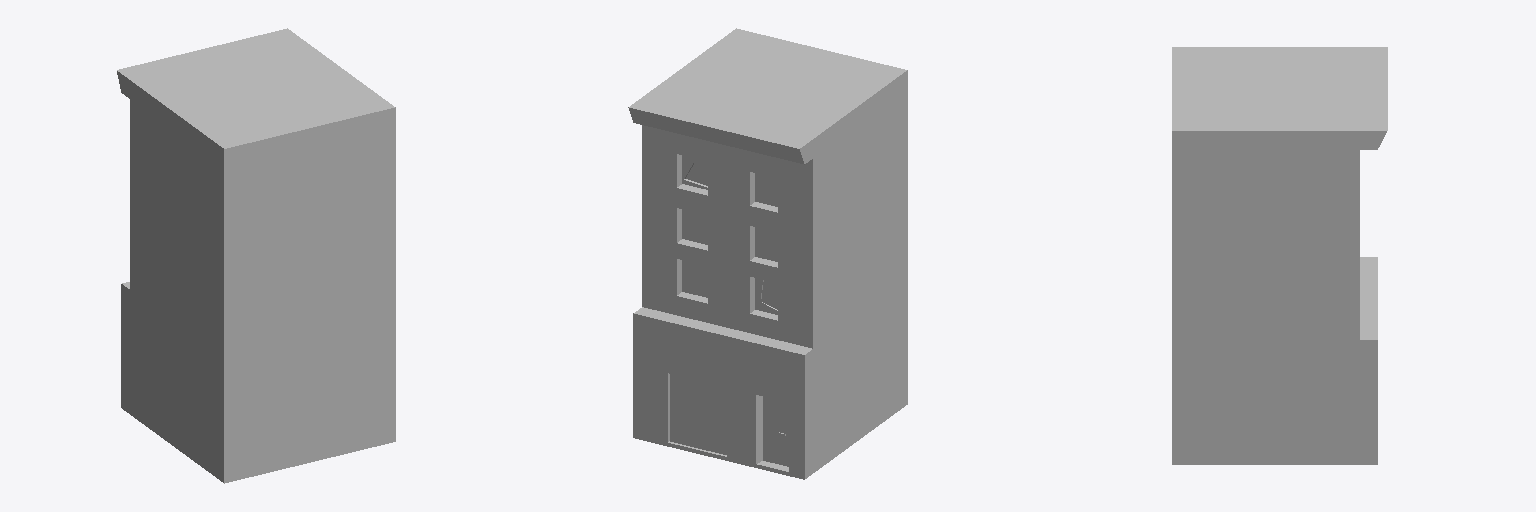
The model's file is Building Medium.obj.
The picture shows the model from 3 angles: view 1: azimuth 30°, elevation 25°; view 2: azimuth 150°, elevation 25°; view 3: azimuth 270°, elevation 25°; orthographic projection.
Visible parts, largest first — view 1: pCube1; view 2: pCube1; view 3: pCube1.
Boxes of the visible parts, x1=… form: pCube1: x1=117, y1=28, x2=395, y2=483; pCube1: x1=628, y1=28, x2=907, y2=479; pCube1: x1=1172, y1=47, x2=1387, y2=464.
Bounding box in the file's own units: 11.29 × 21.09 × 12.33.